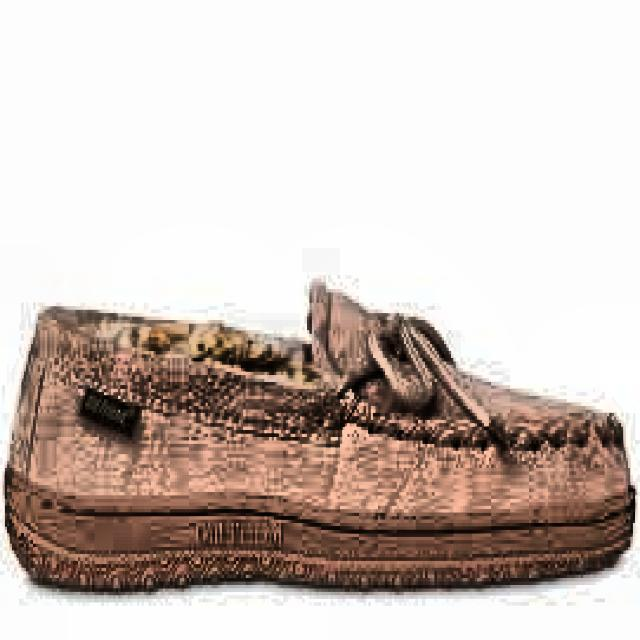shoes: (6, 231, 634, 598)
